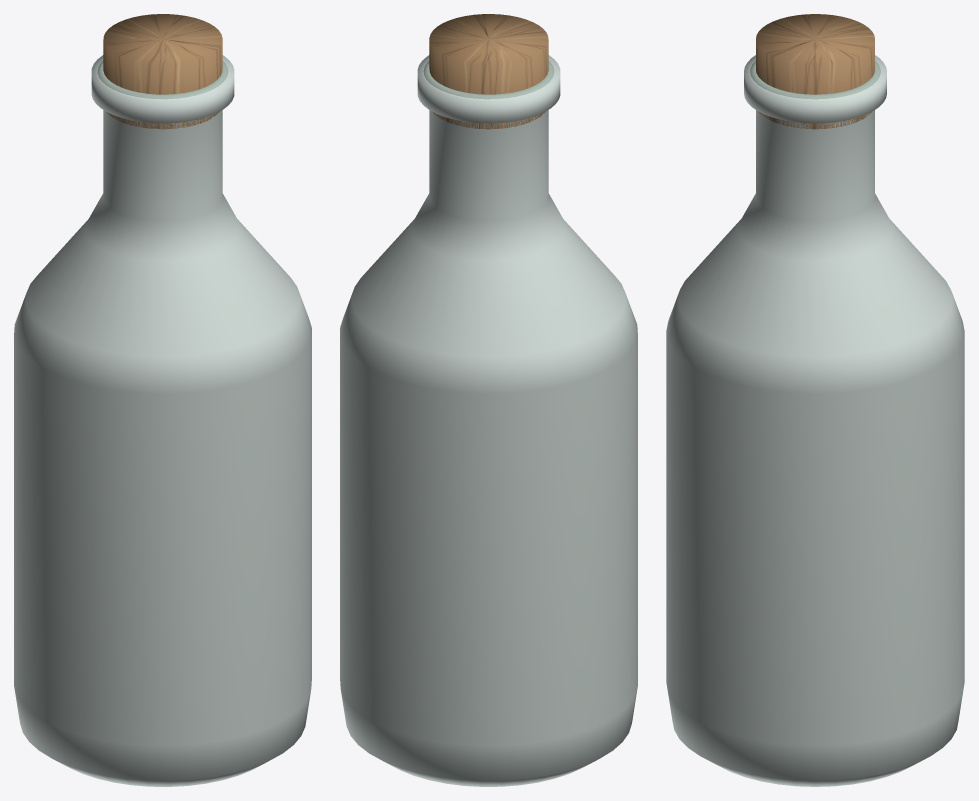
File: props_p6__p6_saliva.glb
3 renders of one model, left to right at view 1: azimuth 30°, elevation 25°; view 2: azimuth 150°, elevation 25°; view 3: azimuth 270°, elevation 25°, orthographic.
Parts seen in each view (by area): view 1: hollow_glass, cork, bottle_rim; view 2: hollow_glass, cork, bottle_rim; view 3: hollow_glass, cork, bottle_rim.
Boxes of the visible parts, box(x1,y1,x2,y2) form: hollow_glass: box(14, 55, 311, 786); cork: box(103, 14, 222, 129); bottle_rim: box(97, 60, 228, 99); hollow_glass: box(340, 55, 637, 786); cork: box(429, 14, 548, 129); bottle_rim: box(423, 60, 554, 99); hollow_glass: box(666, 55, 964, 786); cork: box(756, 14, 874, 129); bottle_rim: box(750, 61, 880, 99).
Bounding box in the file's own units: 0.05 × 0.129 × 0.05.
Materials: 6 (1 with a texture image).
